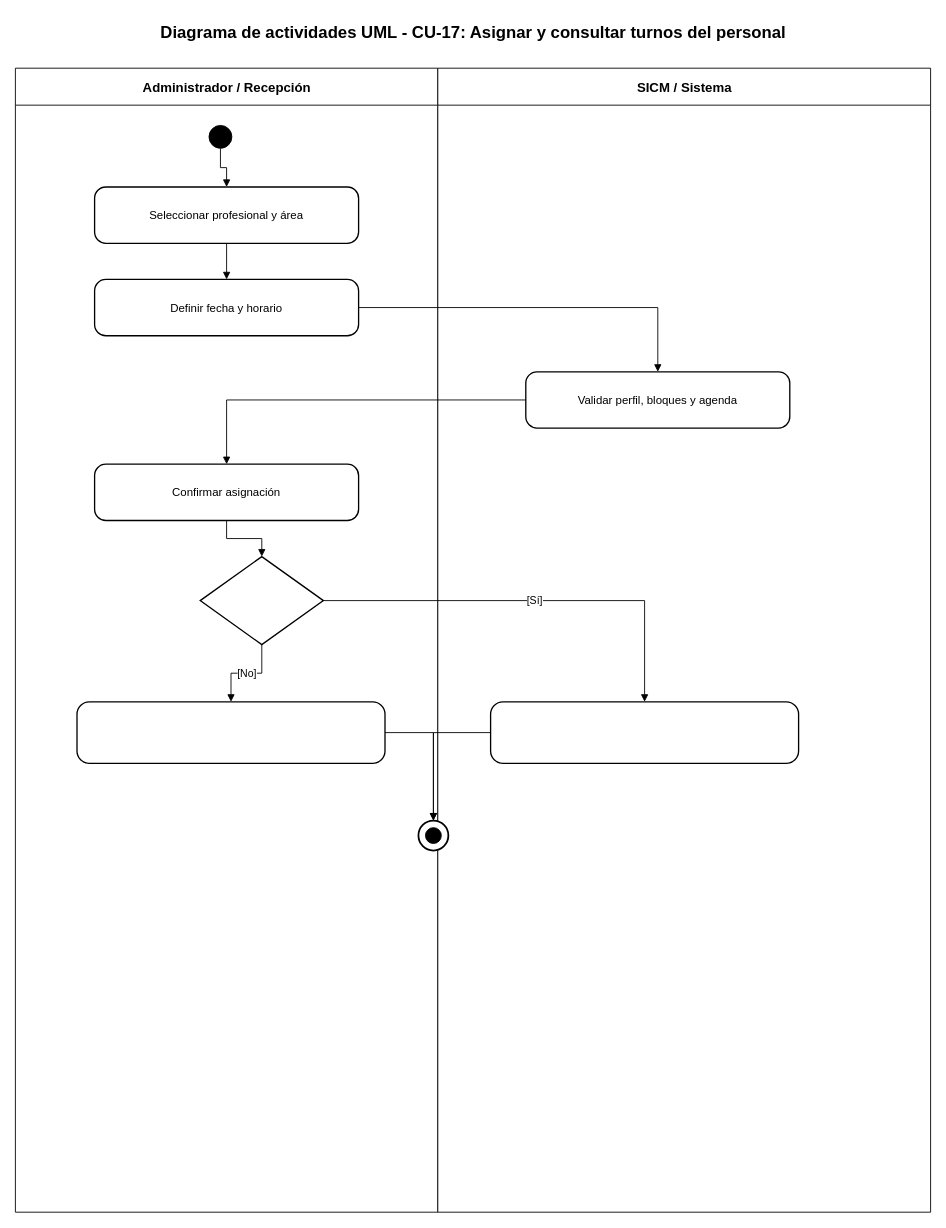
Some shapes in this 946 by 1228 pixel diagram are drawn without their labels. The shapes that lost their labels are listed below. From the top down, each one's centre as x and y in pixels, then its label:
At point (261, 600): "¿Existe solapamiento?".
At point (230, 732): "Guardar turno y actualizar disponibilidad".
At point (644, 732): "Rechazar turno y mostrar conflicto".
